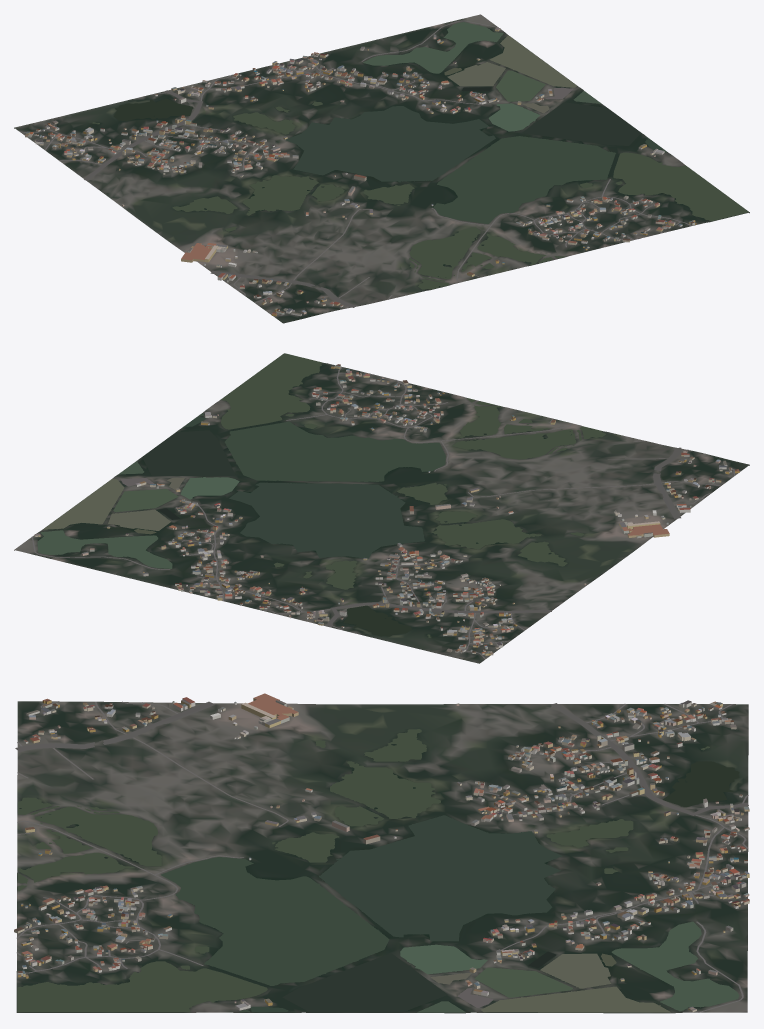
The picture shows the model from 3 angles, top to bottom: view 1: azimuth 30°, elevation 25°; view 2: azimuth 150°, elevation 25°; view 3: azimuth 270°, elevation 25°; orthographic projection. The views are drawn at different scales.
Parts seen in each view (by area): view 1: ground, water, buildings, roads; view 2: ground, water, buildings, roads; view 3: ground, water, buildings, roads.
Part boxes in pixels (left/top/right/bottom): ground: left=14, top=14, right=749, bottom=323; water: left=92, top=22, right=748, bottom=289; buildings: left=25, top=27, right=696, bottom=316; roads: left=20, top=20, right=691, bottom=315; ground: left=14, top=354, right=749, bottom=663; water: left=37, top=353, right=606, bottom=637; buildings: left=34, top=364, right=739, bottom=655; roads: left=31, top=367, right=735, bottom=659; ground: left=16, top=701, right=748, bottom=1013; water: left=17, top=729, right=739, bottom=1012; buildings: left=14, top=693, right=749, bottom=1012; roads: left=15, top=701, right=748, bottom=1012.
Size of the model in its own units: 1435 by 16.49 by 1412.
